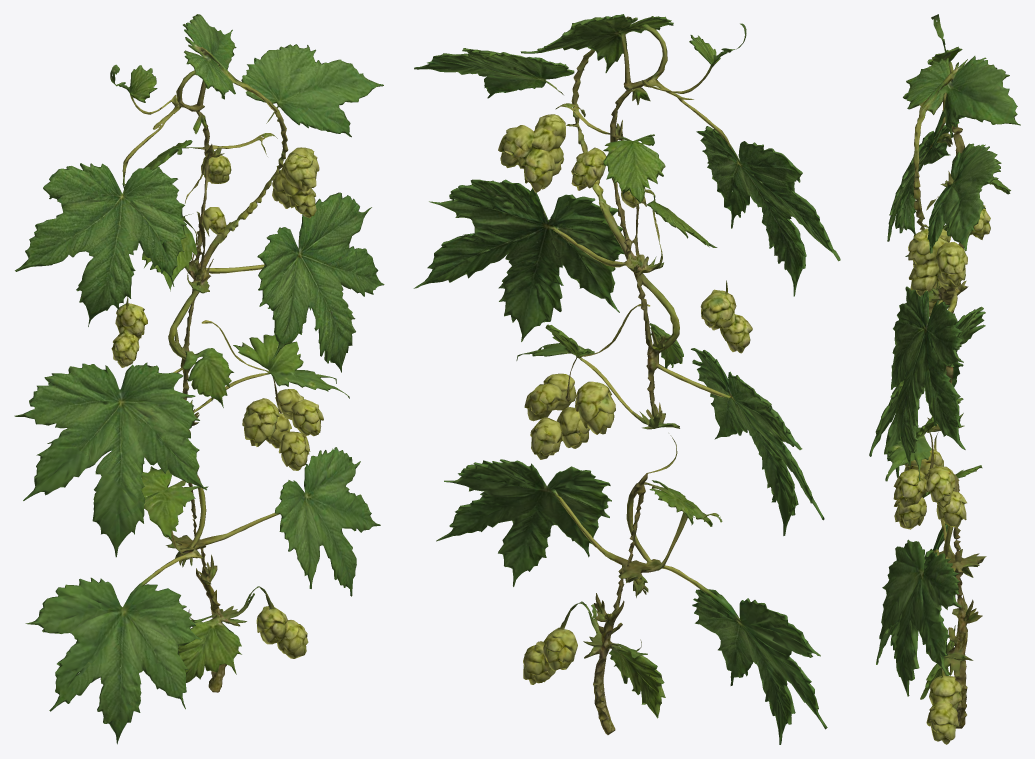
File: HopsVine.glb
The picture shows the model from 3 angles, left to right: view 1: azimuth 30°, elevation 25°; view 2: azimuth 150°, elevation 25°; view 3: azimuth 270°, elevation 25°; orthographic projection. The views are drawn at different scales.
Visible parts, largest first — view 1: Mesh_0; view 2: Mesh_0; view 3: Mesh_0.
Boxes of the visible parts, x1=… form: Mesh_0: x1=14, y1=14, x2=384, y2=744; Mesh_0: x1=413, y1=14, x2=840, y2=744; Mesh_0: x1=869, y1=14, x2=1020, y2=744.
Bounding box in the file's own units: 0.596 × 1 × 0.207.
1 material, 1 textured.
